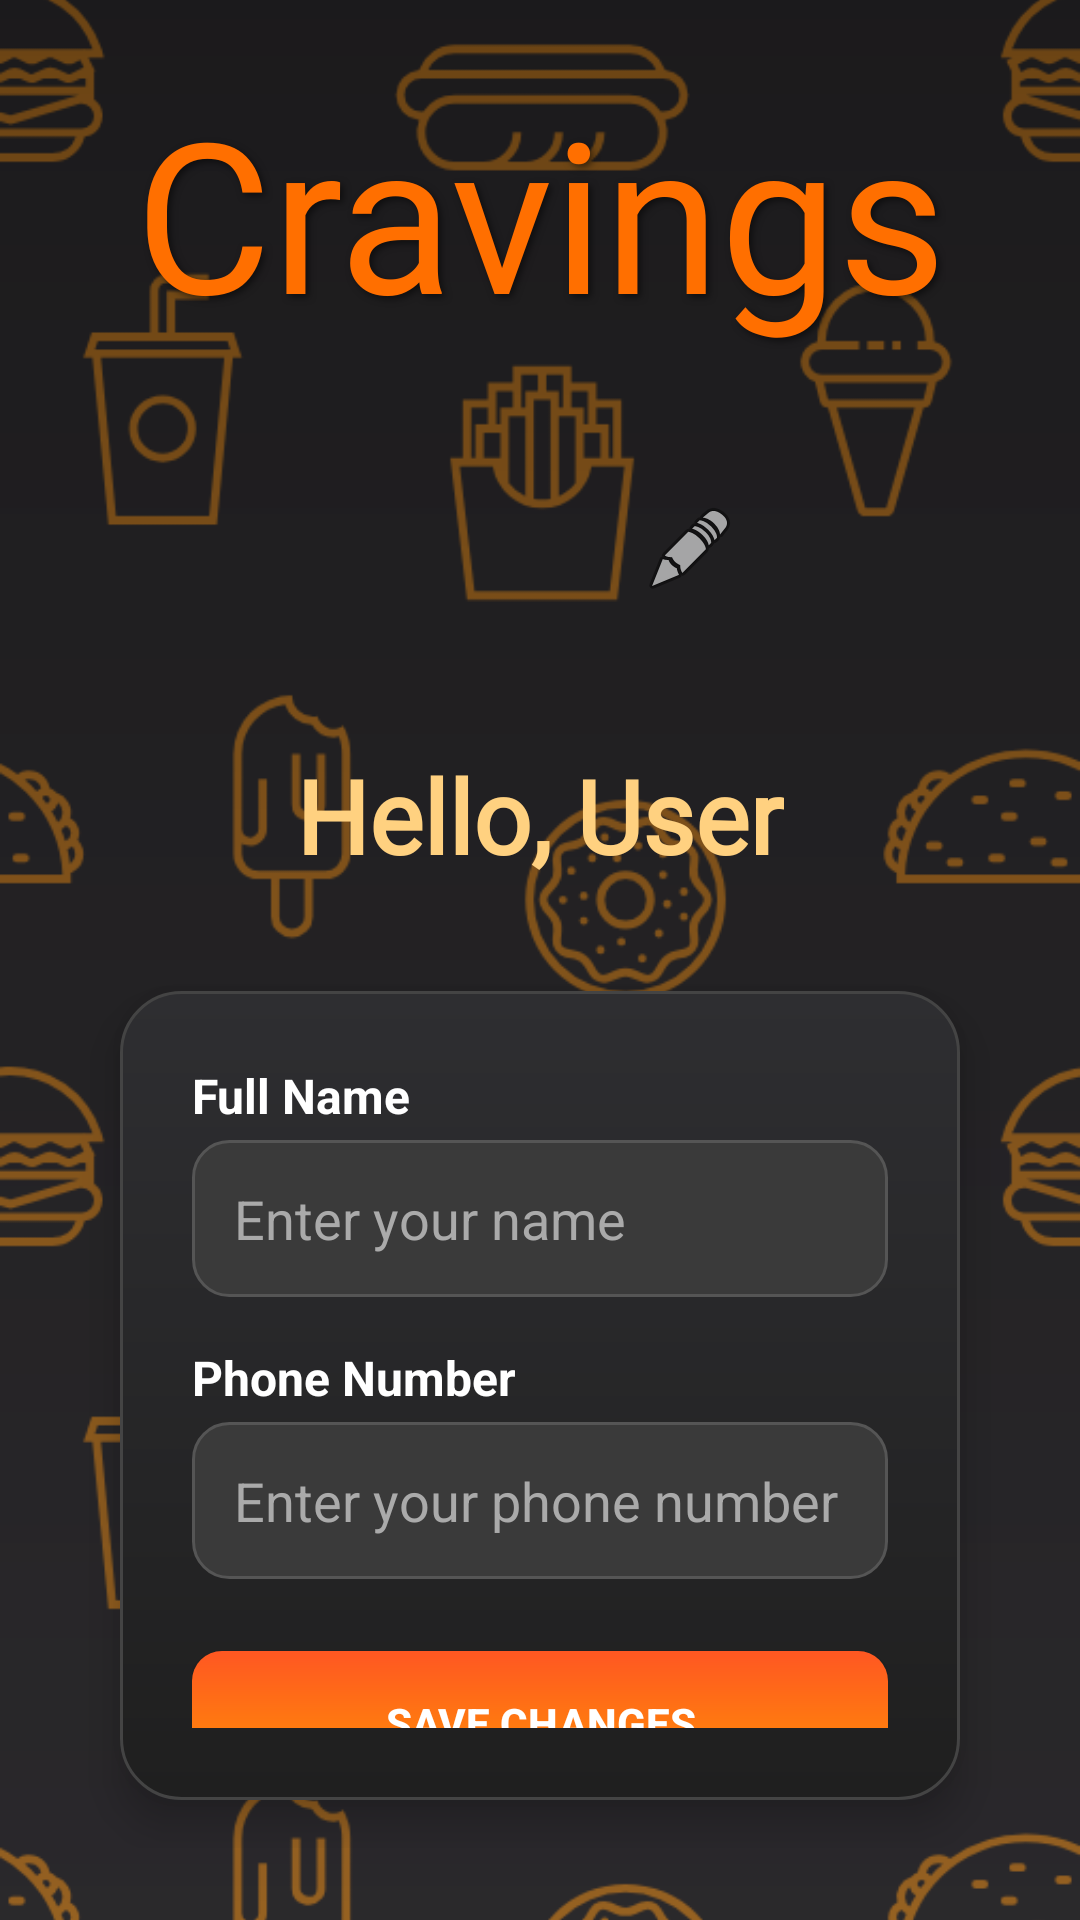

Screen size 1080 × 1920. Icon name, then its box in pixels as {"x1": x1, "y1": y1, "x2": x2, "y2": y2}:
Edit Profile Picture: {"x1": 652, "y1": 511, "x2": 727, "y2": 586}
